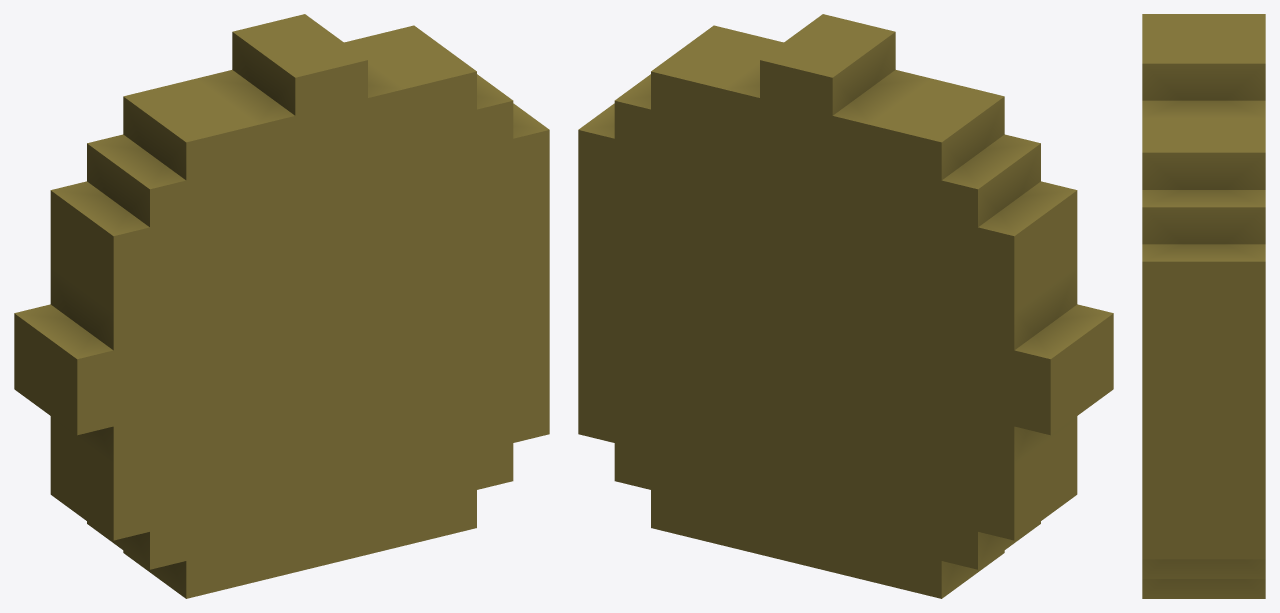
File: coin.glb
The picture shows the model from 3 angles, left to right: view 1: azimuth 30°, elevation 25°; view 2: azimuth 150°, elevation 25°; view 3: azimuth 270°, elevation 25°; orthographic projection. The views are drawn at different scales.
Parts seen in each view (by area): view 1: voxels; view 2: voxels; view 3: voxels.
Boxes of the visible parts, x1,y1,x2,y2 form: voxels: [14, 14, 549, 598]; voxels: [578, 14, 1113, 598]; voxels: [1142, 14, 1265, 598].
Size of the model in its own units: 0.7991 by 0.7991 by 0.1844.
